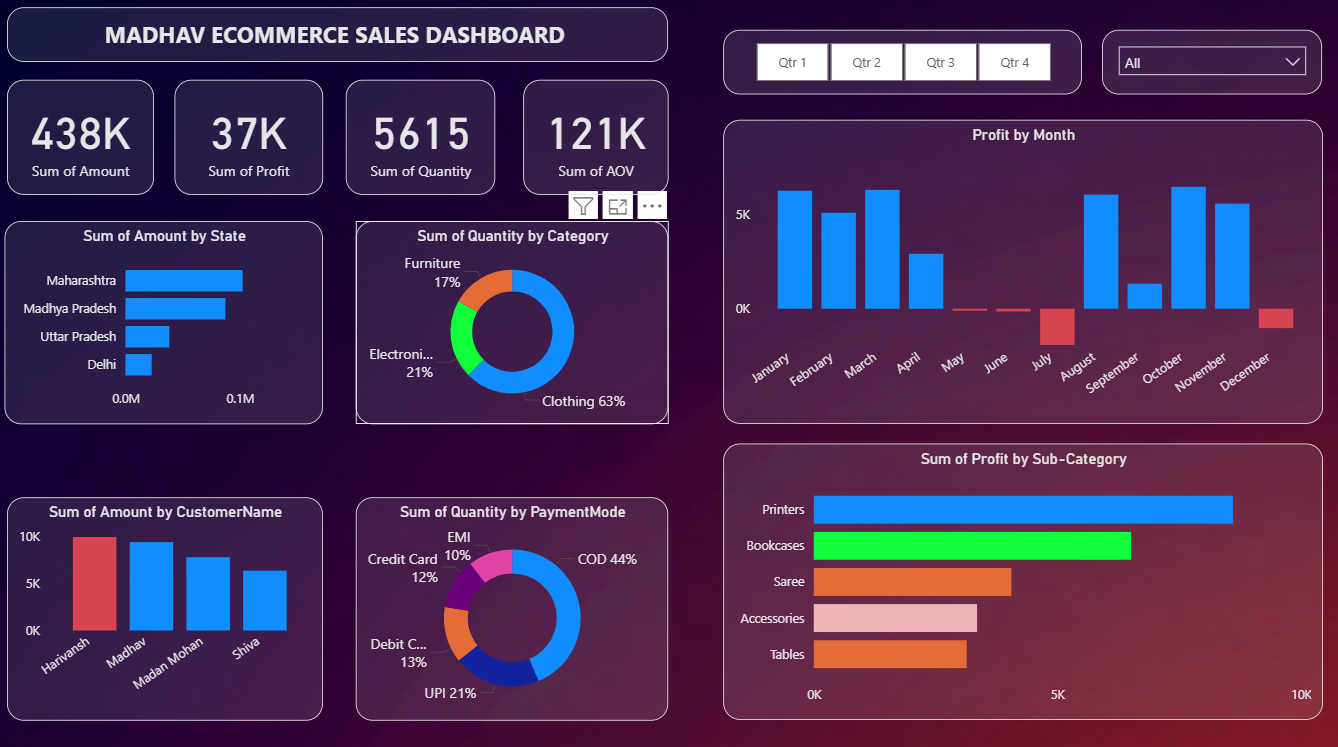

What the dashboard file says about the page in this screenshot:
{"tool":"powerbi","page":{"name":"Page 1","canvas":[1280,720],"ordinal":0},"visuals":[{"type":"textbox","box":[9.6,11,629.8,52.1],"z":0},{"type":"columnChart","title":"Profit by Month","fields":{"Y":["Sum(Details.Profit)"],"Category":["Orders.Order Date.Variation.Date Hierarchy.Month"]},"box":[691.6,118,570.8,289.5],"z":1000},{"type":"barChart","fields":{"Category":["Details.Sub-Category"],"Y":["Sum(Details.Profit)"]},"box":[691.6,426.8,570.8,263.5],"z":2000},{"type":"donutChart","fields":{"Category":["Details.Category"],"Y":["Sum(Details.Quantity)"]},"box":[341.7,214.1,297.8,193.5],"z":3000},{"type":"donutChart","fields":{"Y":["Sum(Details.Quantity)"],"Category":["Details.PaymentMode"]},"box":[341.7,477.5,297.8,212.7],"z":4000},{"type":"card","fields":{"Values":["Sum(Details.Amount)"]},"box":[9.6,79.6,140,109.8],"z":4001},{"type":"card","fields":{"Values":["Sum(Details.Profit)"]},"box":[168.8,79.6,141.3,109.8],"z":4002},{"type":"card","fields":{"Values":["Sum(Details.Quantity)"]},"box":[332.1,79.6,142.7,109.8],"z":4003},{"type":"card","fields":{"Values":["Sum(Details.AOV)"]},"box":[500.9,79.6,138.6,109.8],"z":4004},{"type":"barChart","fields":{"Category":["Orders.State"],"Y":["Sum(Details.Amount)"]},"box":[6.9,214.1,303.3,193.5],"z":4005},{"type":"columnChart","fields":{"Category":["Orders.CustomerName"],"Y":["Sum(Details.Amount)"]},"box":[9.6,477.5,300.5,212.7],"z":4006},{"type":"slicer","fields":{"Values":["Orders.Order Date.Variation.Date Hierarchy.Quarter"]},"box":[691.6,31.6,341.7,61.7],"z":4007},{"type":"slicer","fields":{"Values":["Orders.State"]},"box":[1052.5,31.6,209.9,61.7],"z":4008}]}

Visuals, with their boxes in screenshot pixels (x1, y1, x2, y2), scaled from the page's 1280x720 canvas onto the 1338x747 screenshot:
textbox: x1=10 y1=11 x2=668 y2=65
"Profit by Month" columnChart: x1=723 y1=122 x2=1320 y2=423
barChart - Details.Sub-Category x Sum(Details.Profit): x1=723 y1=443 x2=1320 y2=716
donutChart - Details.Category x Sum(Details.Quantity): x1=357 y1=222 x2=668 y2=423
donutChart - Sum(Details.Quantity) x Details.PaymentMode: x1=357 y1=495 x2=668 y2=716
card - Sum(Details.Amount): x1=10 y1=83 x2=156 y2=197
card - Sum(Details.Profit): x1=176 y1=83 x2=324 y2=197
card - Sum(Details.Quantity): x1=347 y1=83 x2=496 y2=197
card - Sum(Details.AOV): x1=524 y1=83 x2=668 y2=197
barChart - Orders.State x Sum(Details.Amount): x1=7 y1=222 x2=324 y2=423
columnChart - Orders.CustomerName x Sum(Details.Amount): x1=10 y1=495 x2=324 y2=716
slicer - Orders.Order Date.Variation.Date Hierarchy.Quarter: x1=723 y1=33 x2=1080 y2=97
slicer - Orders.State: x1=1100 y1=33 x2=1320 y2=97
